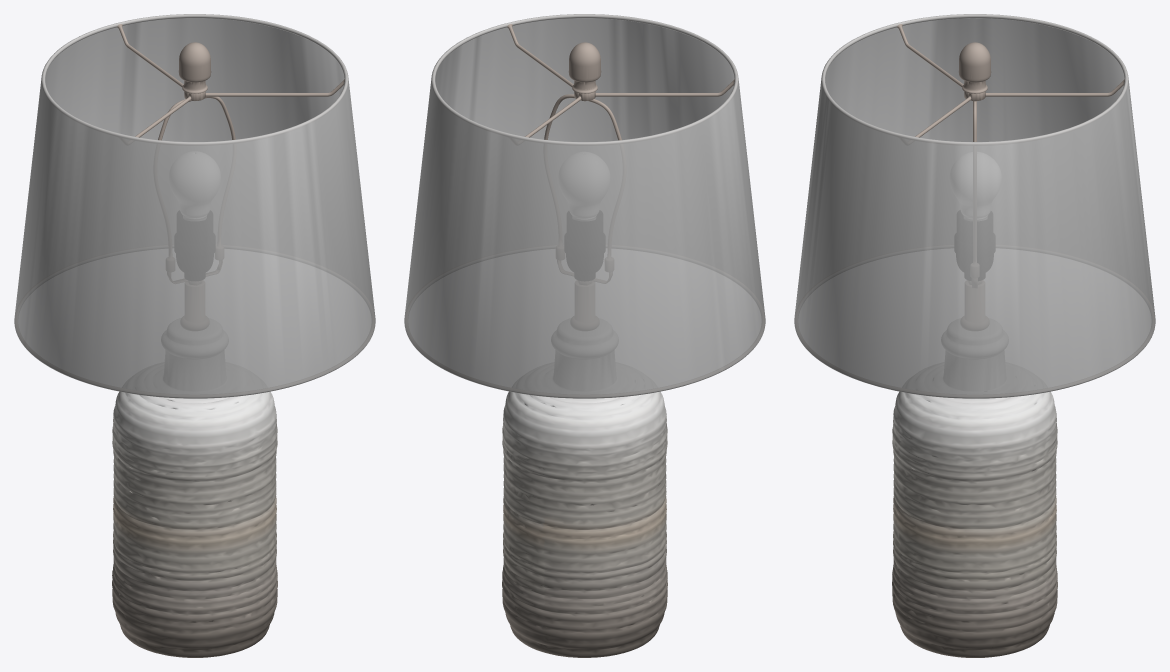
Rendered from SmallLampSimpler.fbx.
3 views of the same model, side by side, from view 1: azimuth 30°, elevation 25°; view 2: azimuth 150°, elevation 25°; view 3: azimuth 270°, elevation 25° (orthographic).
Parts seen in each view (by area): view 1: Lamp, BaseLamp; view 2: Lamp, BaseLamp; view 3: Lamp, BaseLamp.
Boxes of the visible parts, x1,y1,x2,y2 form: Lamp: (14,14,375,398); BaseLamp: (112,391,277,657); Lamp: (404,14,765,398); BaseLamp: (502,391,667,657); Lamp: (794,14,1155,398); BaseLamp: (892,391,1057,657).
Bounding box in the file's own units: 28 × 50 × 28.
